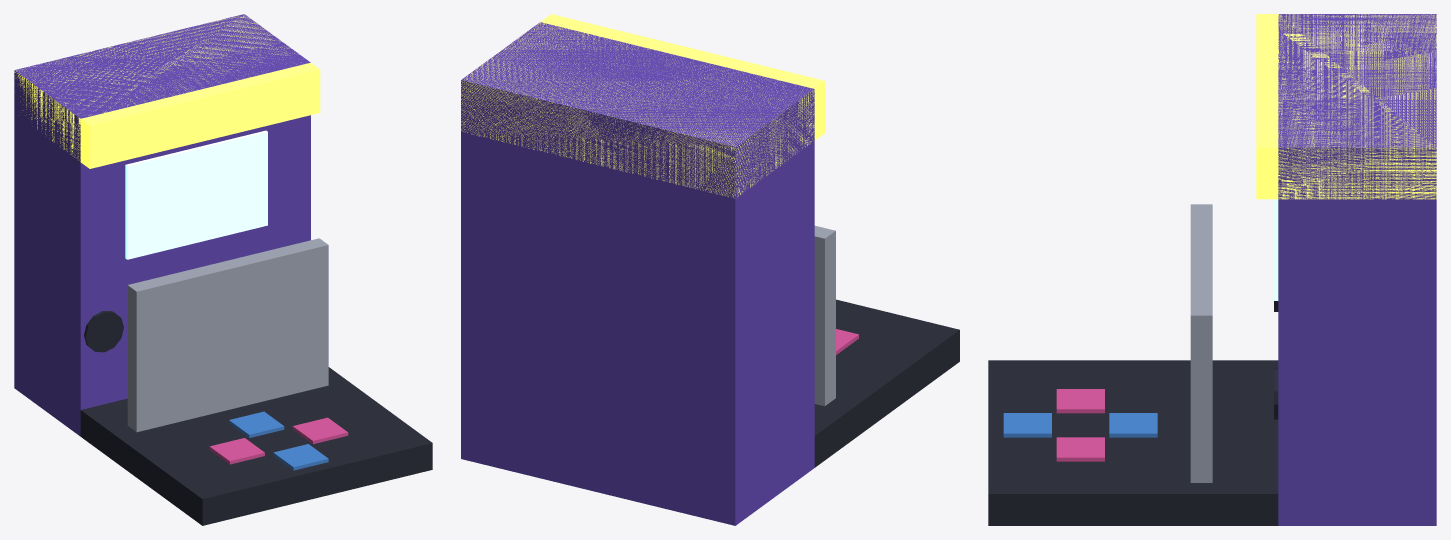
File: dance-machine.glb
3 renders of one model, left to right at view 1: azimuth 30°, elevation 25°; view 2: azimuth 150°, elevation 25°; view 3: azimuth 270°, elevation 25°, orthographic. The views are drawn at different scales.
Visible parts, largest first — view 1: dance-machine; view 2: dance-machine; view 3: dance-machine.
Part boxes in pixels (box(x1,y1,x2,y2)): dance-machine: box(14, 14, 432, 525); dance-machine: box(461, 14, 959, 525); dance-machine: box(988, 14, 1436, 525).
Size of the model in its own units: 0.72 by 0.95 by 1.02.
1 material, 1 textured.
